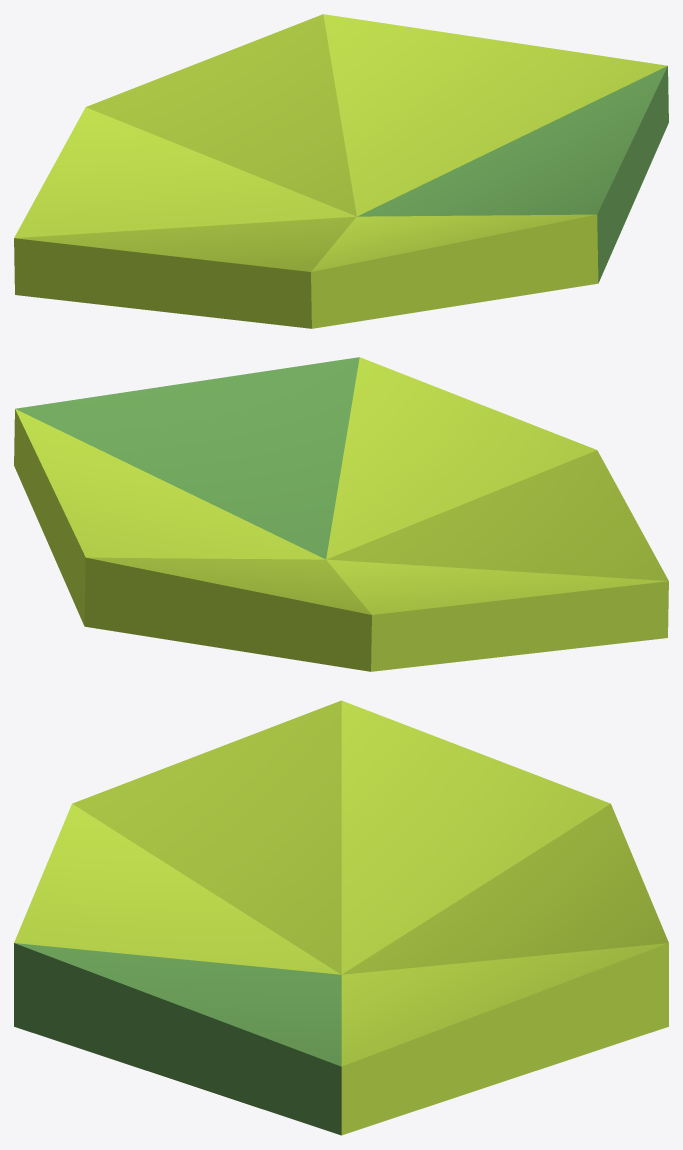
Rendered from Green_Leaf.fbx.
3 views of the same model, one above another, from view 1: azimuth 30°, elevation 25°; view 2: azimuth 150°, elevation 25°; view 3: azimuth 270°, elevation 25° (orthographic). The views are drawn at different scales.
Visible parts, largest first — view 1: pCylinder3; view 2: pCylinder3; view 3: pCylinder3.
Boxes of the visible parts, box(x1,y1,x2,y2) form: pCylinder3: box(14, 14, 668, 328); pCylinder3: box(14, 357, 668, 671); pCylinder3: box(14, 700, 668, 1135).
Bounding box in the file's own units: 107 × 21.02 × 77.82.
